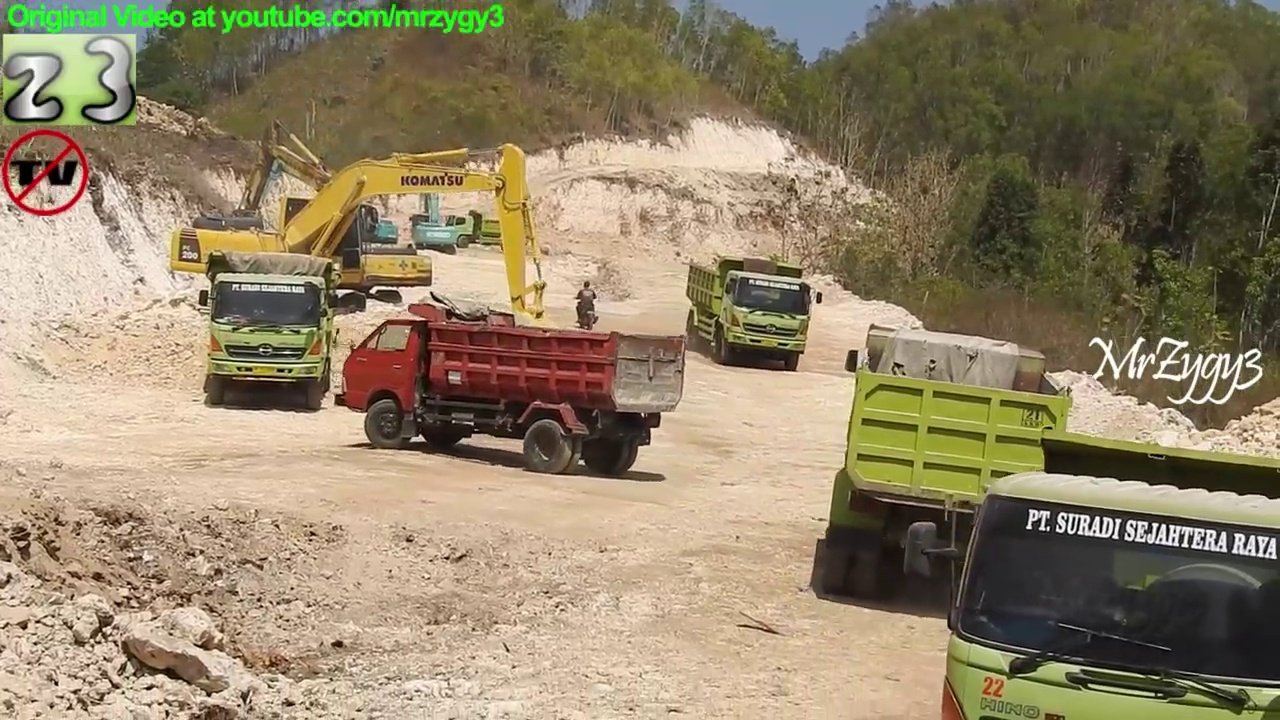excavator: (169, 136, 551, 361), (224, 121, 440, 326), (237, 144, 406, 292), (409, 155, 460, 255)
truck: (937, 426, 1274, 720), (816, 317, 1078, 614), (338, 293, 692, 481), (199, 250, 340, 410), (685, 251, 824, 375), (443, 207, 538, 251)
